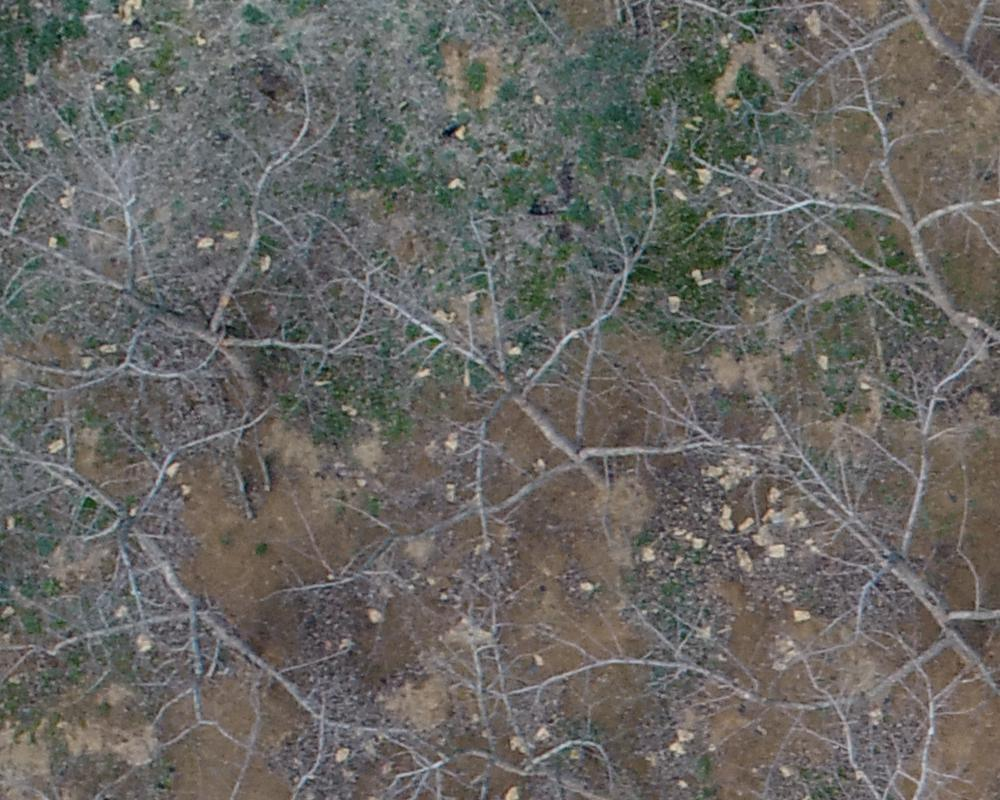apple: (329, 110, 754, 549), (10, 360, 422, 758), (10, 41, 396, 444), (714, 22, 990, 490), (717, 335, 990, 754), (354, 564, 660, 790)
